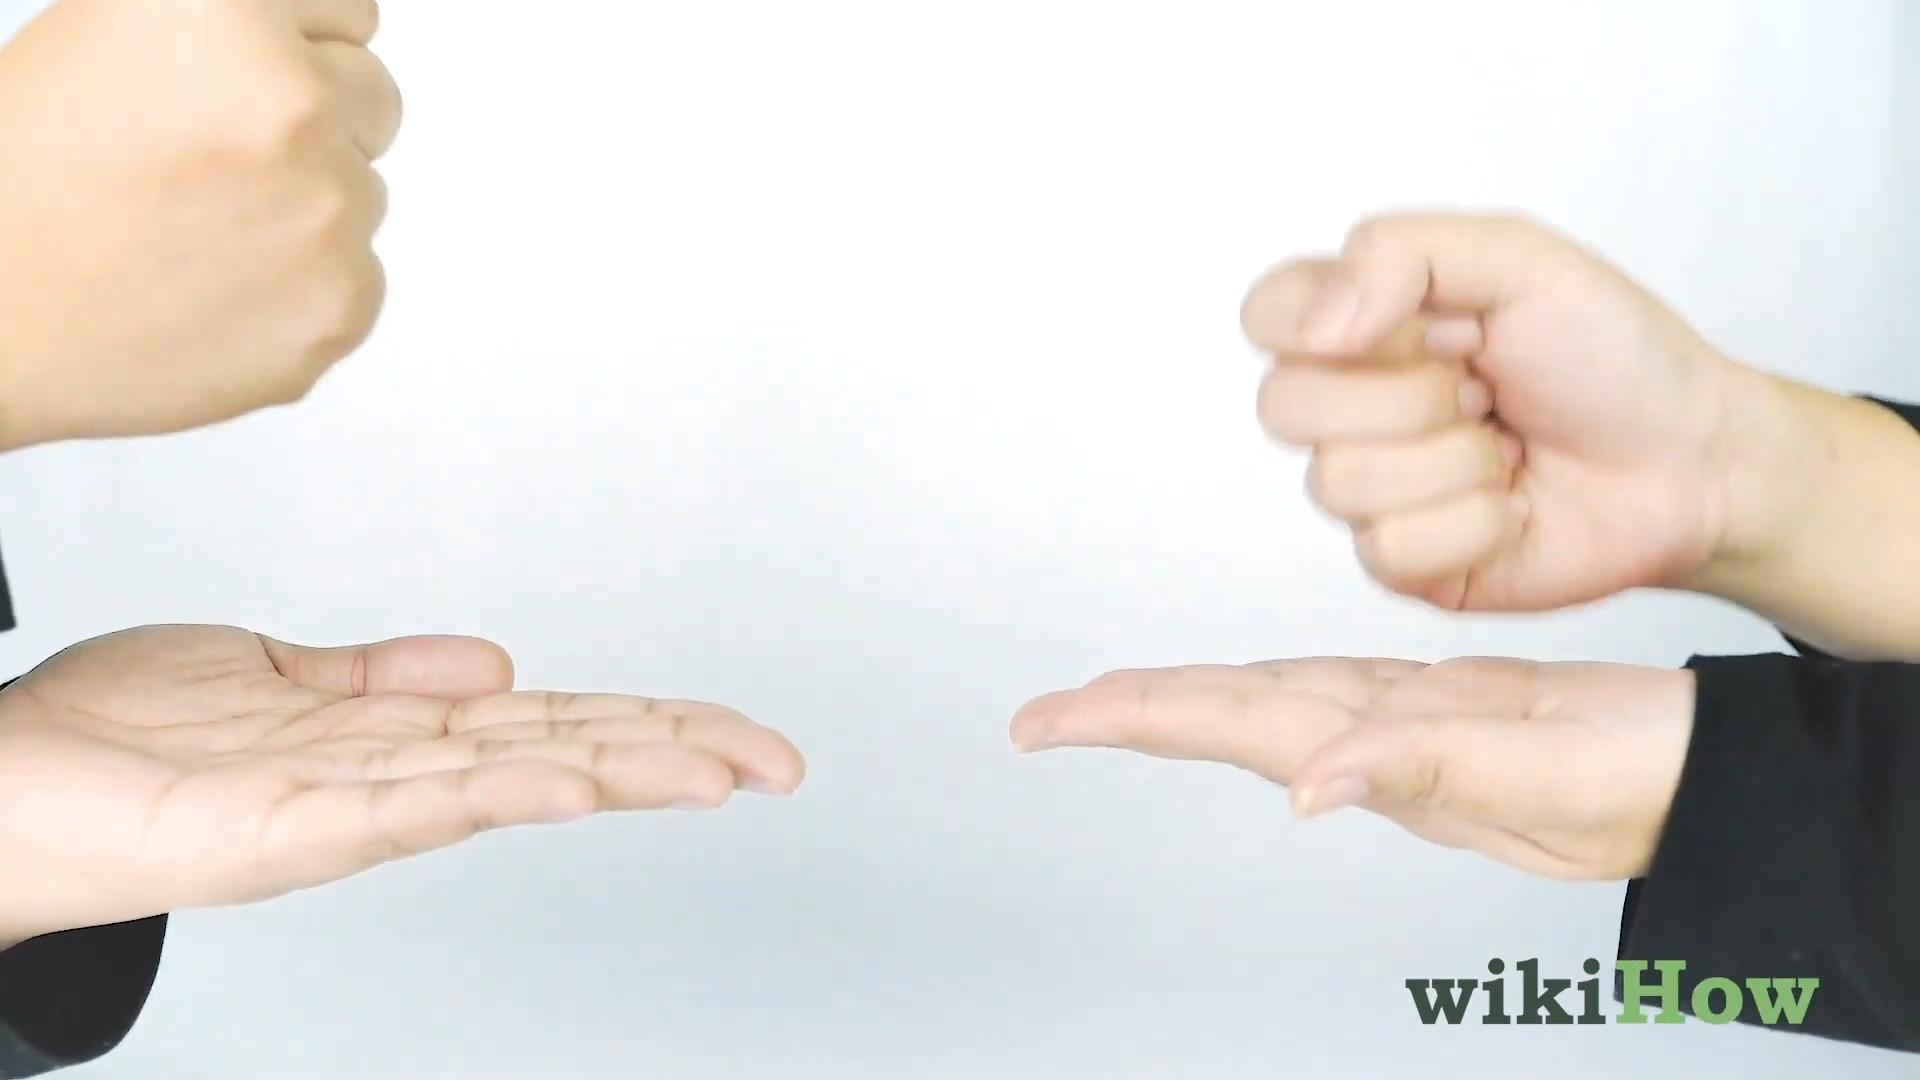Rock: (1242, 198, 1720, 615), (0, 0, 405, 446)
